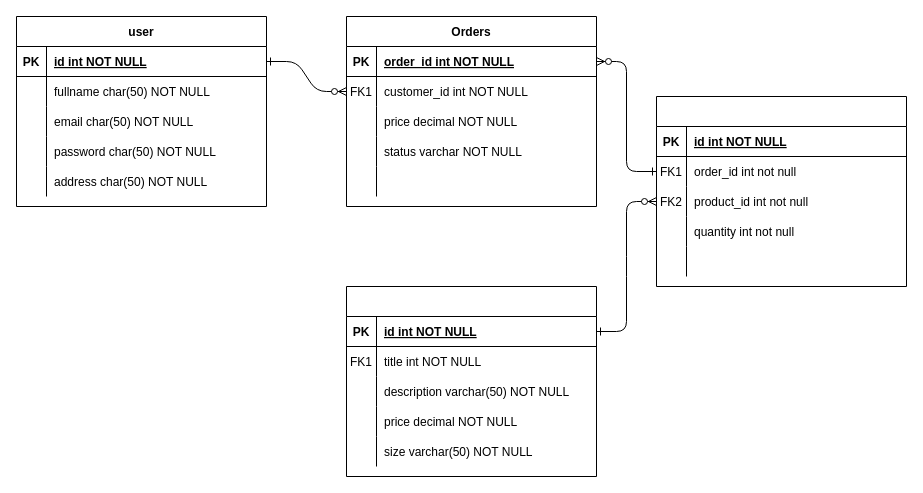
This 923x493 diagram has some shape labels left out. The shapes that lost their labels are listed below. From the top down, each one's box as (x1, y1, x2, y2) in pixels, then its label:
(656, 96, 906, 286): order_detail
(346, 286, 596, 476): product
